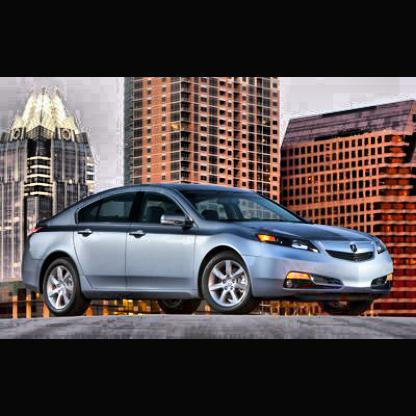Acura TL Sedan 2012: (24, 182, 396, 321)
